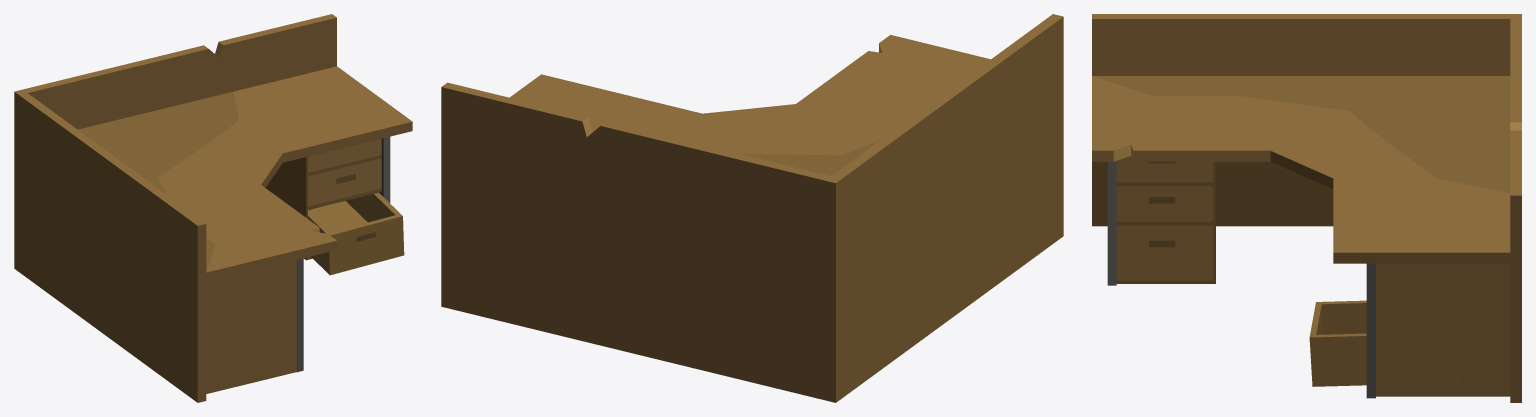
File: AI_Prop_Desk_Corner.fbx
The picture shows the model from 3 angles, left to right: view 1: azimuth 30°, elevation 25°; view 2: azimuth 150°, elevation 25°; view 3: azimuth 270°, elevation 25°; orthographic projection. The views are drawn at different scales.
Visible parts, largest first — view 1: AI_Prop_Desk_Corner; view 2: AI_Prop_Desk_Corner; view 3: AI_Prop_Desk_Corner.
Boxes of the visible parts, <box> form: AI_Prop_Desk_Corner: <box>14,14,412,402</box>; AI_Prop_Desk_Corner: <box>441,14,1063,402</box>; AI_Prop_Desk_Corner: <box>1092,14,1521,402</box>.
Size of the model in its own units: 4.08 by 2.17 by 4.08.
